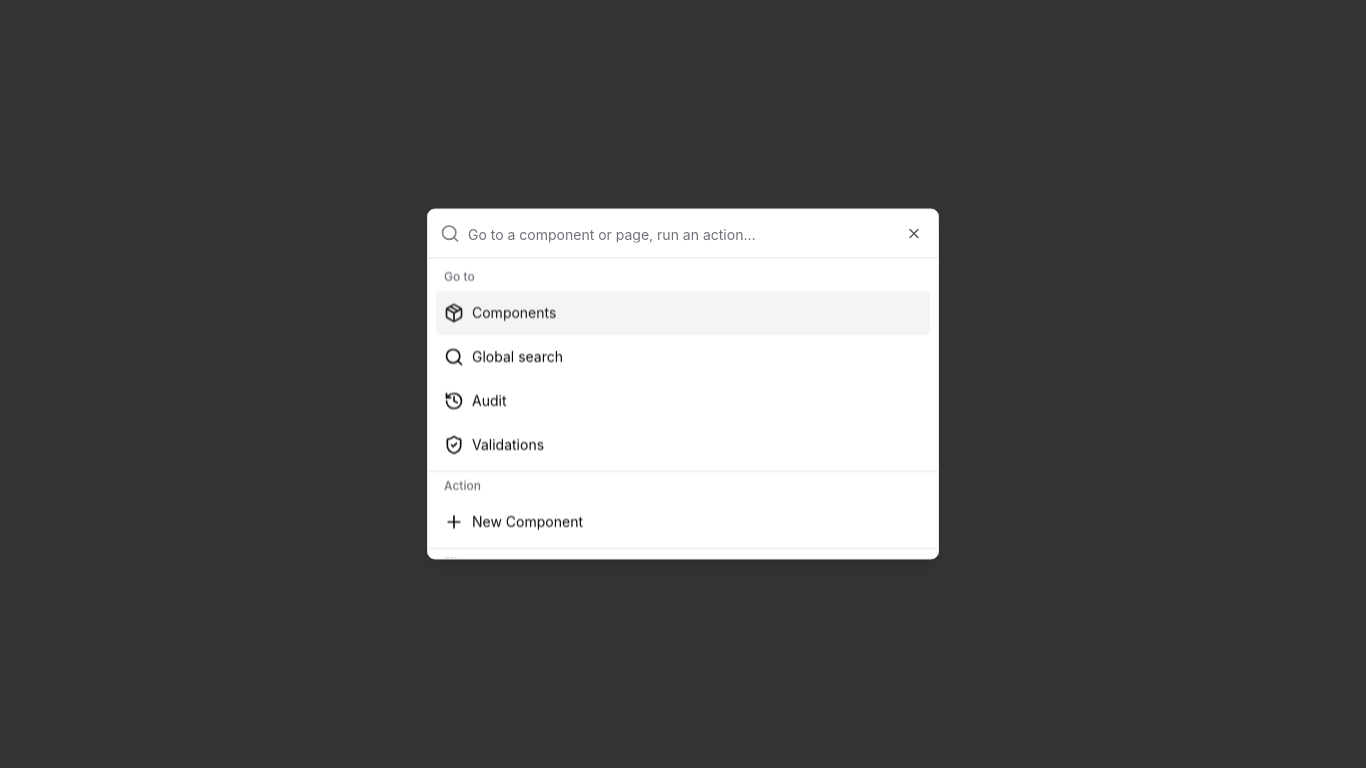
Test case: CommandPalette — component search › surfaces a matching static entry (Go to > Audit) when the query matches its label
Type "aud" into the dropdown with placeholder "Go to a component or page, run an action…" at (697, 234), box [468,210,926,258]
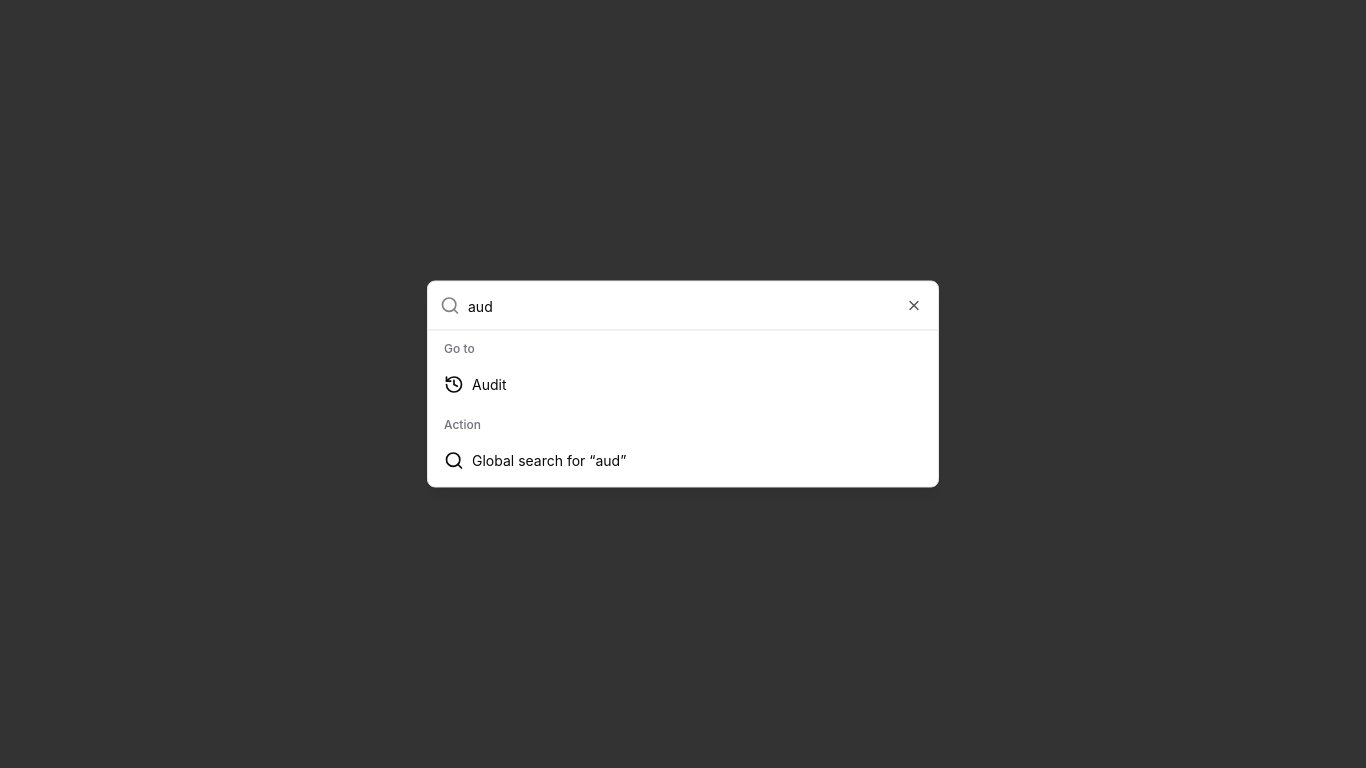
Expected: the text "With problems" is not shown
Expected: the option "Validations" is gone
